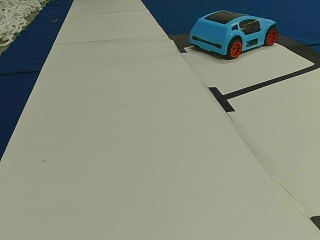car: (189, 11, 277, 59)
